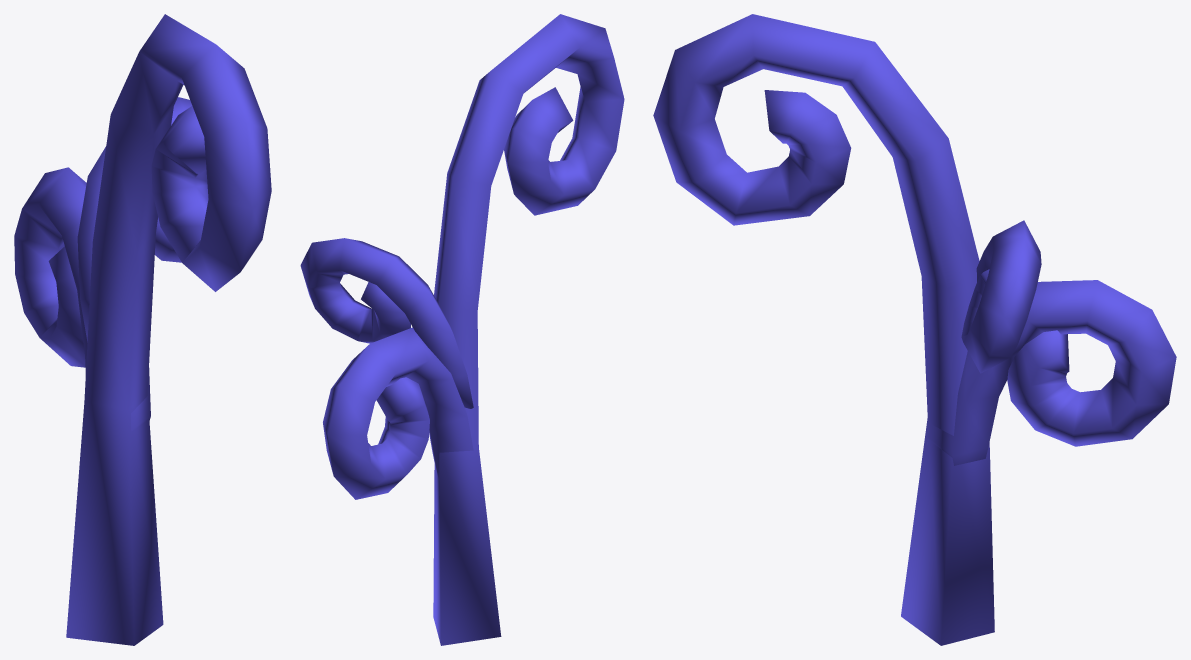
The model's file is C_Cumulous_2.fbx.
The picture shows the model from 3 angles, left to right: view 1: azimuth 30°, elevation 25°; view 2: azimuth 150°, elevation 25°; view 3: azimuth 270°, elevation 25°; orthographic projection. The views are drawn at different scales.
Visible parts, largest first — view 1: CurlyCurve.001; view 2: CurlyCurve.001; view 3: CurlyCurve.001.
Part boxes in pixels (bbox=[...]): CurlyCurve.001: bbox=[14, 14, 271, 645]; CurlyCurve.001: bbox=[300, 14, 624, 645]; CurlyCurve.001: bbox=[653, 14, 1176, 645].
Size of the model in its own units: 33.45 by 97.68 by 75.57.
